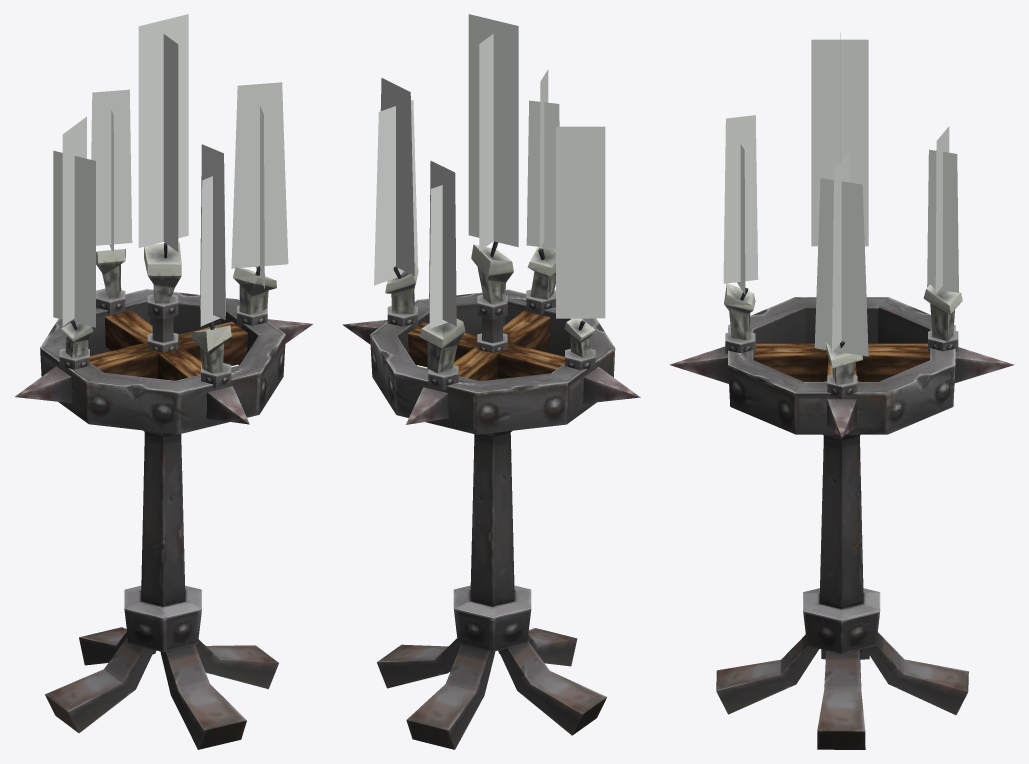
File: candelabra_02.fbx
The picture shows the model from 3 angles, left to right: view 1: azimuth 30°, elevation 25°; view 2: azimuth 150°, elevation 25°; view 3: azimuth 270°, elevation 25°; orthographic projection.
Parts seen in each view (by area): view 1: obj1; view 2: obj1; view 3: obj1.
Part boxes in pixels (left/top/right/bottom): obj1: left=15, top=14, right=312, bottom=749; obj1: left=342, top=14, right=640, bottom=749; obj1: left=669, top=33, right=1014, bottom=749.
Size of the model in its own units: 1.76 by 3.83 by 1.77.
